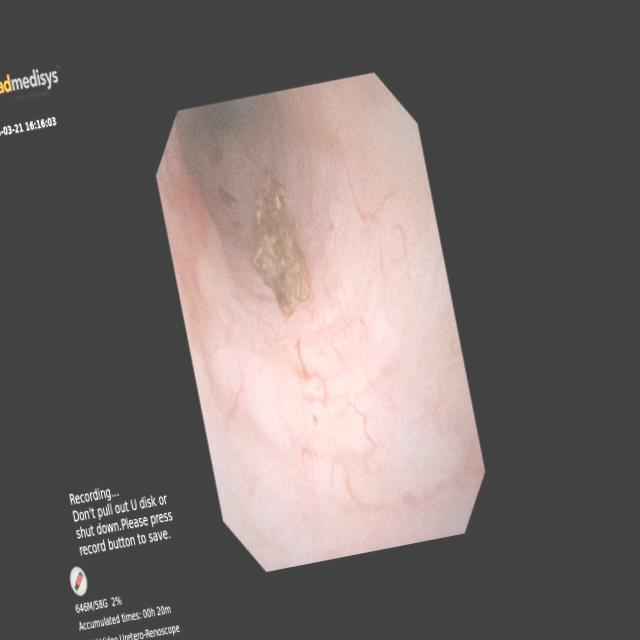stone-new: (252, 172, 311, 315)
